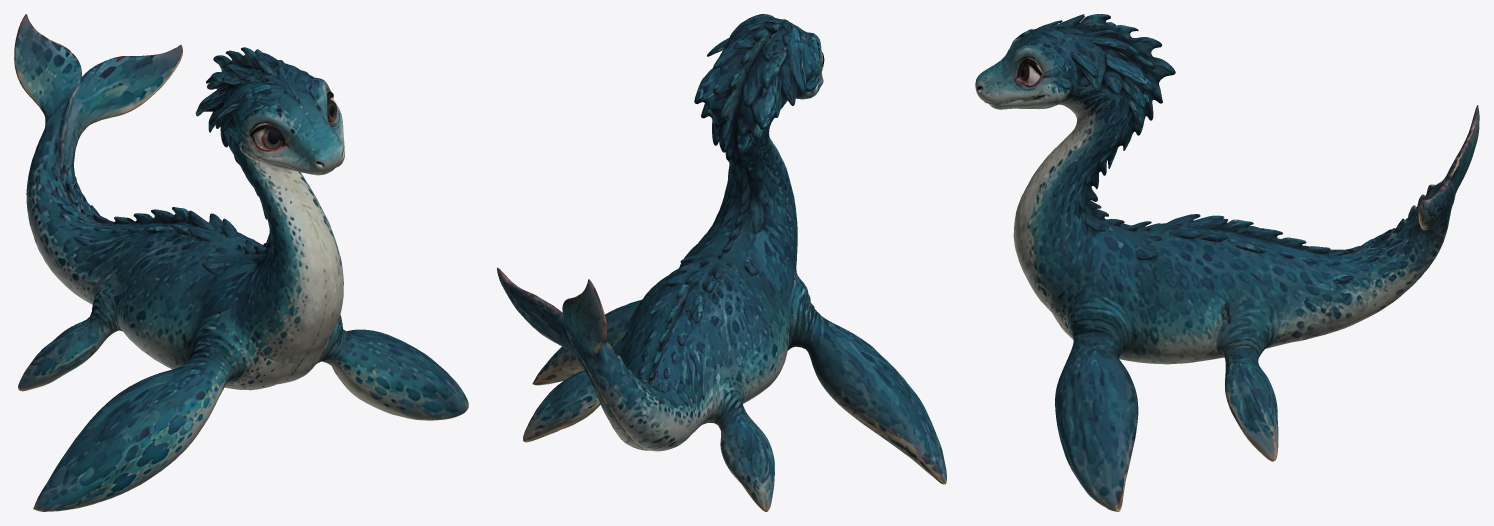
File: figurine-nessie.glb
3 views of the same model, side by side, from view 1: azimuth 30°, elevation 25°; view 2: azimuth 150°, elevation 25°; view 3: azimuth 270°, elevation 25° (orthographic). The views are drawn at different scales.
Parts seen in each view (by area): view 1: tripo_node_1ad3d013-5cf1-4ef2-82a8-e72dd7bb8682; view 2: tripo_node_1ad3d013-5cf1-4ef2-82a8-e72dd7bb8682; view 3: tripo_node_1ad3d013-5cf1-4ef2-82a8-e72dd7bb8682.
Part boxes in pixels (x1,y1,x2,y2): tripo_node_1ad3d013-5cf1-4ef2-82a8-e72dd7bb8682: (14, 14, 468, 511); tripo_node_1ad3d013-5cf1-4ef2-82a8-e72dd7bb8682: (497, 14, 946, 511); tripo_node_1ad3d013-5cf1-4ef2-82a8-e72dd7bb8682: (975, 14, 1479, 511).
Size of the model in its own units: 0.9155 by 0.8439 by 0.9798.
1 material, 1 textured.
